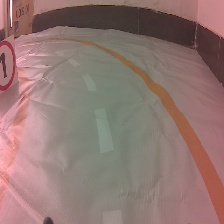limit: (1, 37, 25, 109)
